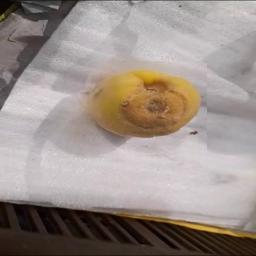Peach Rotten: (86, 62, 208, 158)
